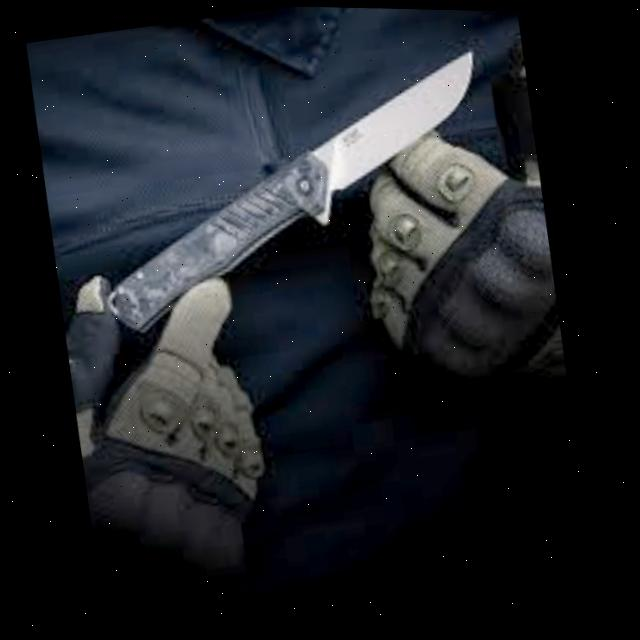Knife: (77, 37, 514, 344)
